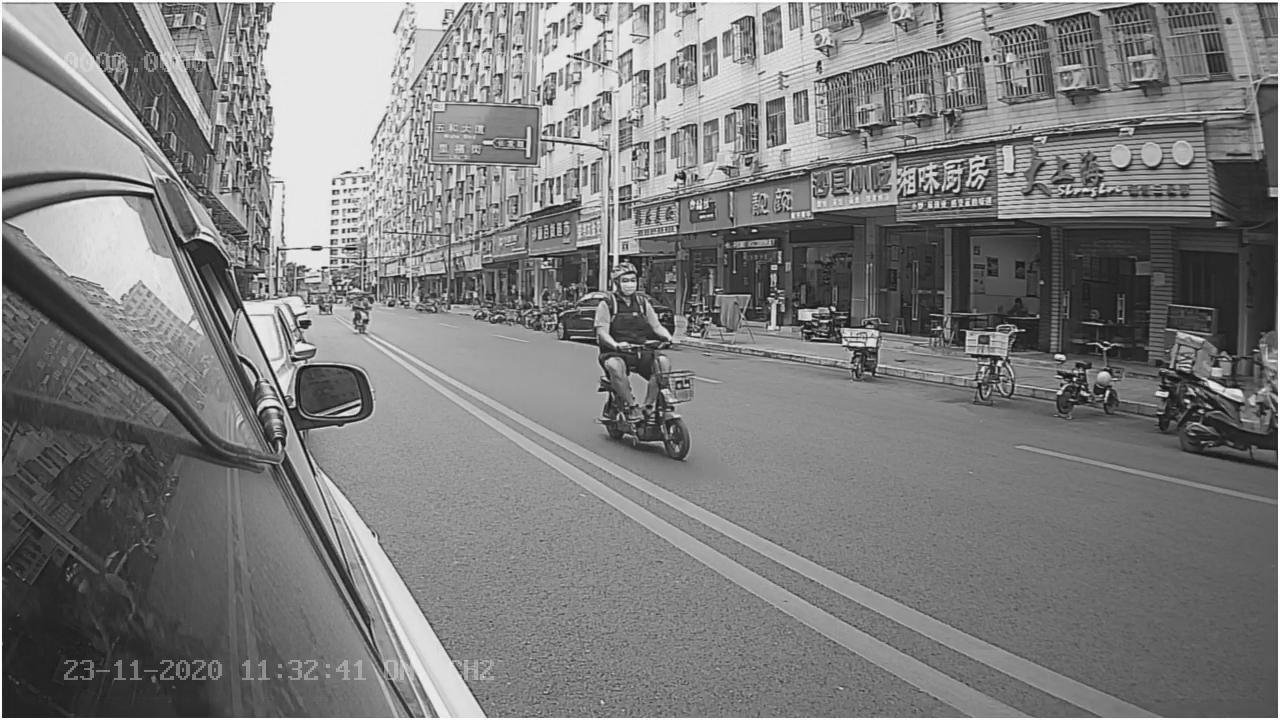person: (593, 255, 675, 355)
